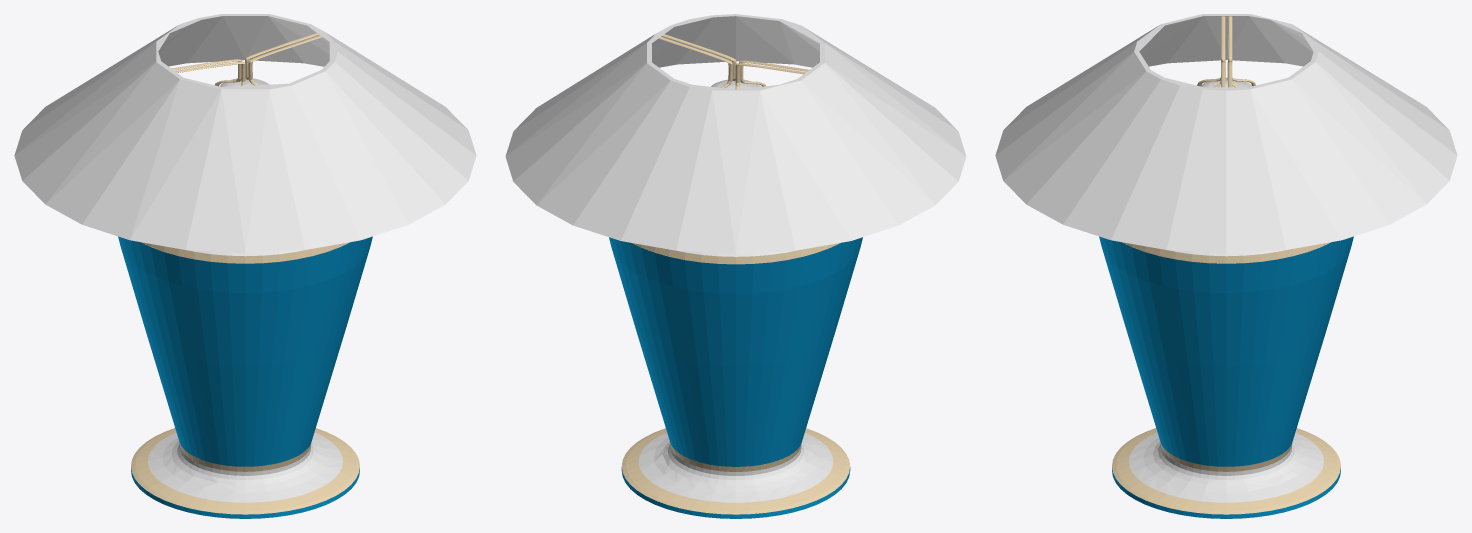
Rendered from sh-kl-pedestal-vase-lamp.glb.
3 views of the same model, side by side, from view 1: azimuth 30°, elevation 25°; view 2: azimuth 150°, elevation 25°; view 3: azimuth 270°, elevation 25° (orthographic).
Parts seen in each view (by area): view 1: Lamp_shade_Lamp_shade_Lamp_shade, Pedestal_vase_Pedestal_vase_Pedestal_Vase, Pedestal_vase_Pedestal_vase_Brass, Pedestal_vase_Pedestal_vase_White_band; view 2: Lamp_shade_Lamp_shade_Lamp_shade, Pedestal_vase_Pedestal_vase_Pedestal_Vase, Pedestal_vase_Pedestal_vase_Brass, Pedestal_vase_Pedestal_vase_White_band; view 3: Lamp_shade_Lamp_shade_Lamp_shade, Pedestal_vase_Pedestal_vase_Pedestal_Vase, Pedestal_vase_Pedestal_vase_Brass, Pedestal_vase_Pedestal_vase_White_band.
Part boxes in pixels (box(x1,y1,x2,y2)): Lamp_shade_Lamp_shade_Lamp_shade: box(14, 14, 476, 253); Pedestal_vase_Pedestal_vase_Pedestal_Vase: box(118, 236, 372, 518); Pedestal_vase_Pedestal_vase_Brass: box(131, 33, 359, 514); Pedestal_vase_Pedestal_vase_White_band: box(148, 250, 342, 502); Lamp_shade_Lamp_shade_Lamp_shade: box(505, 14, 966, 253); Pedestal_vase_Pedestal_vase_Pedestal_Vase: box(609, 237, 862, 518); Pedestal_vase_Pedestal_vase_Brass: box(621, 34, 850, 514); Pedestal_vase_Pedestal_vase_White_band: box(638, 250, 833, 502); Lamp_shade_Lamp_shade_Lamp_shade: box(995, 14, 1457, 253); Pedestal_vase_Pedestal_vase_Pedestal_Vase: box(1099, 236, 1353, 518); Pedestal_vase_Pedestal_vase_Brass: box(1112, 16, 1340, 514); Pedestal_vase_Pedestal_vase_White_band: box(1129, 250, 1323, 502).
Size of the model in its own units: 1 by 1 by 1.
